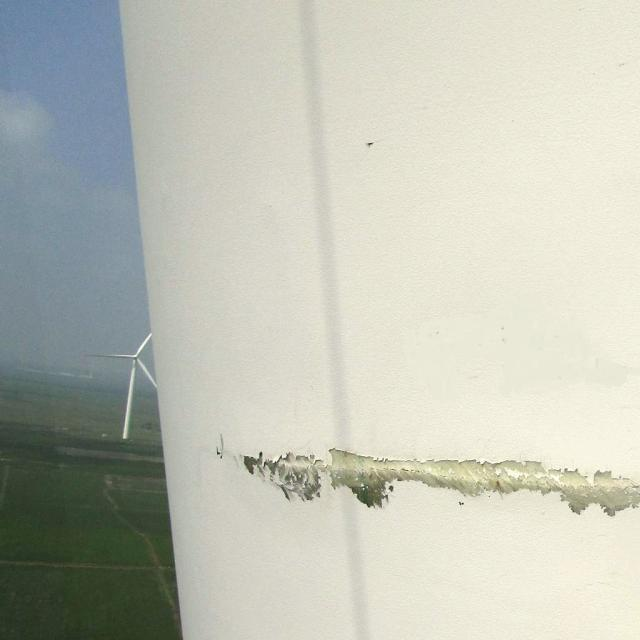surface_peeling: (233, 440, 638, 526)
